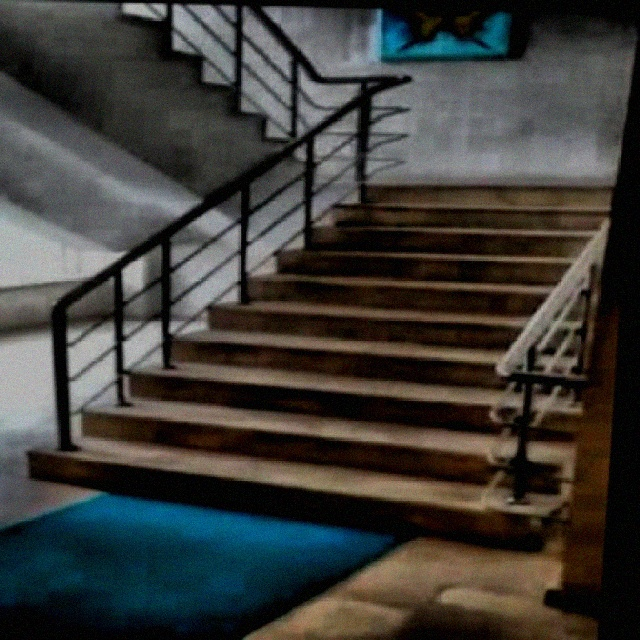stair: (35, 146, 630, 549)
